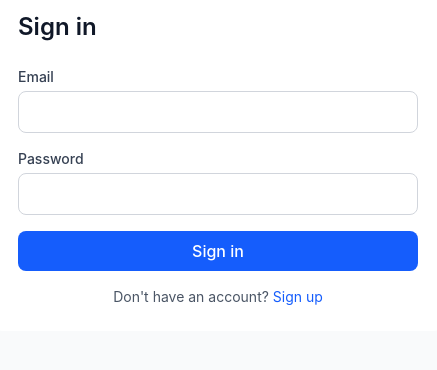
Test: LoginPage › clears field error when user starts typing again
Click the button "Sign in" at x=218, y=251, box top-left (18, 231), bottom-right (418, 271)
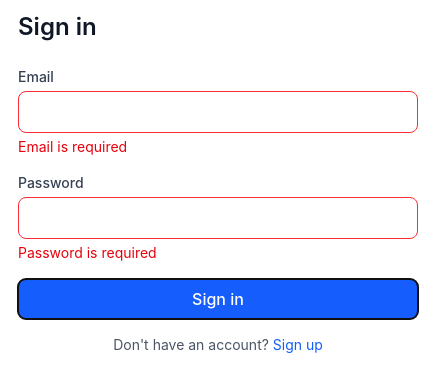
Expected: the text "Email is required" is shown, top-left (18, 138), bottom-right (127, 155)
Type "a" into the field labelled "Email" at x=218, y=112, box top-left (18, 91), bottom-right (418, 133)
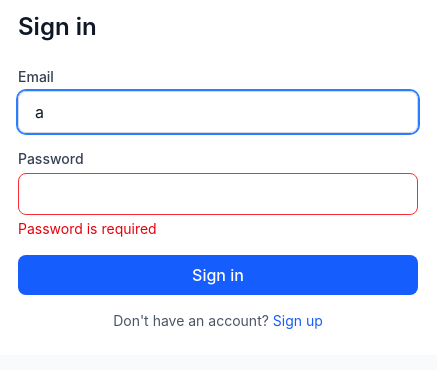
Expected: the text "Email is required" is gone
